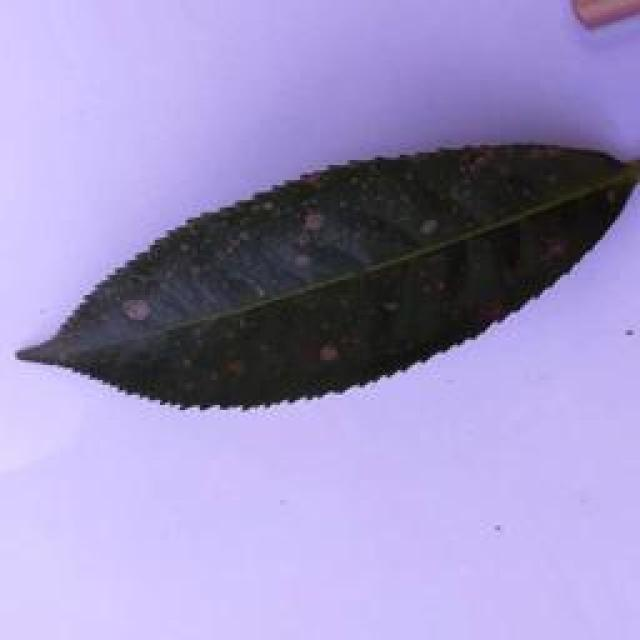Algal Leaf Spot: (10, 132, 634, 416)
